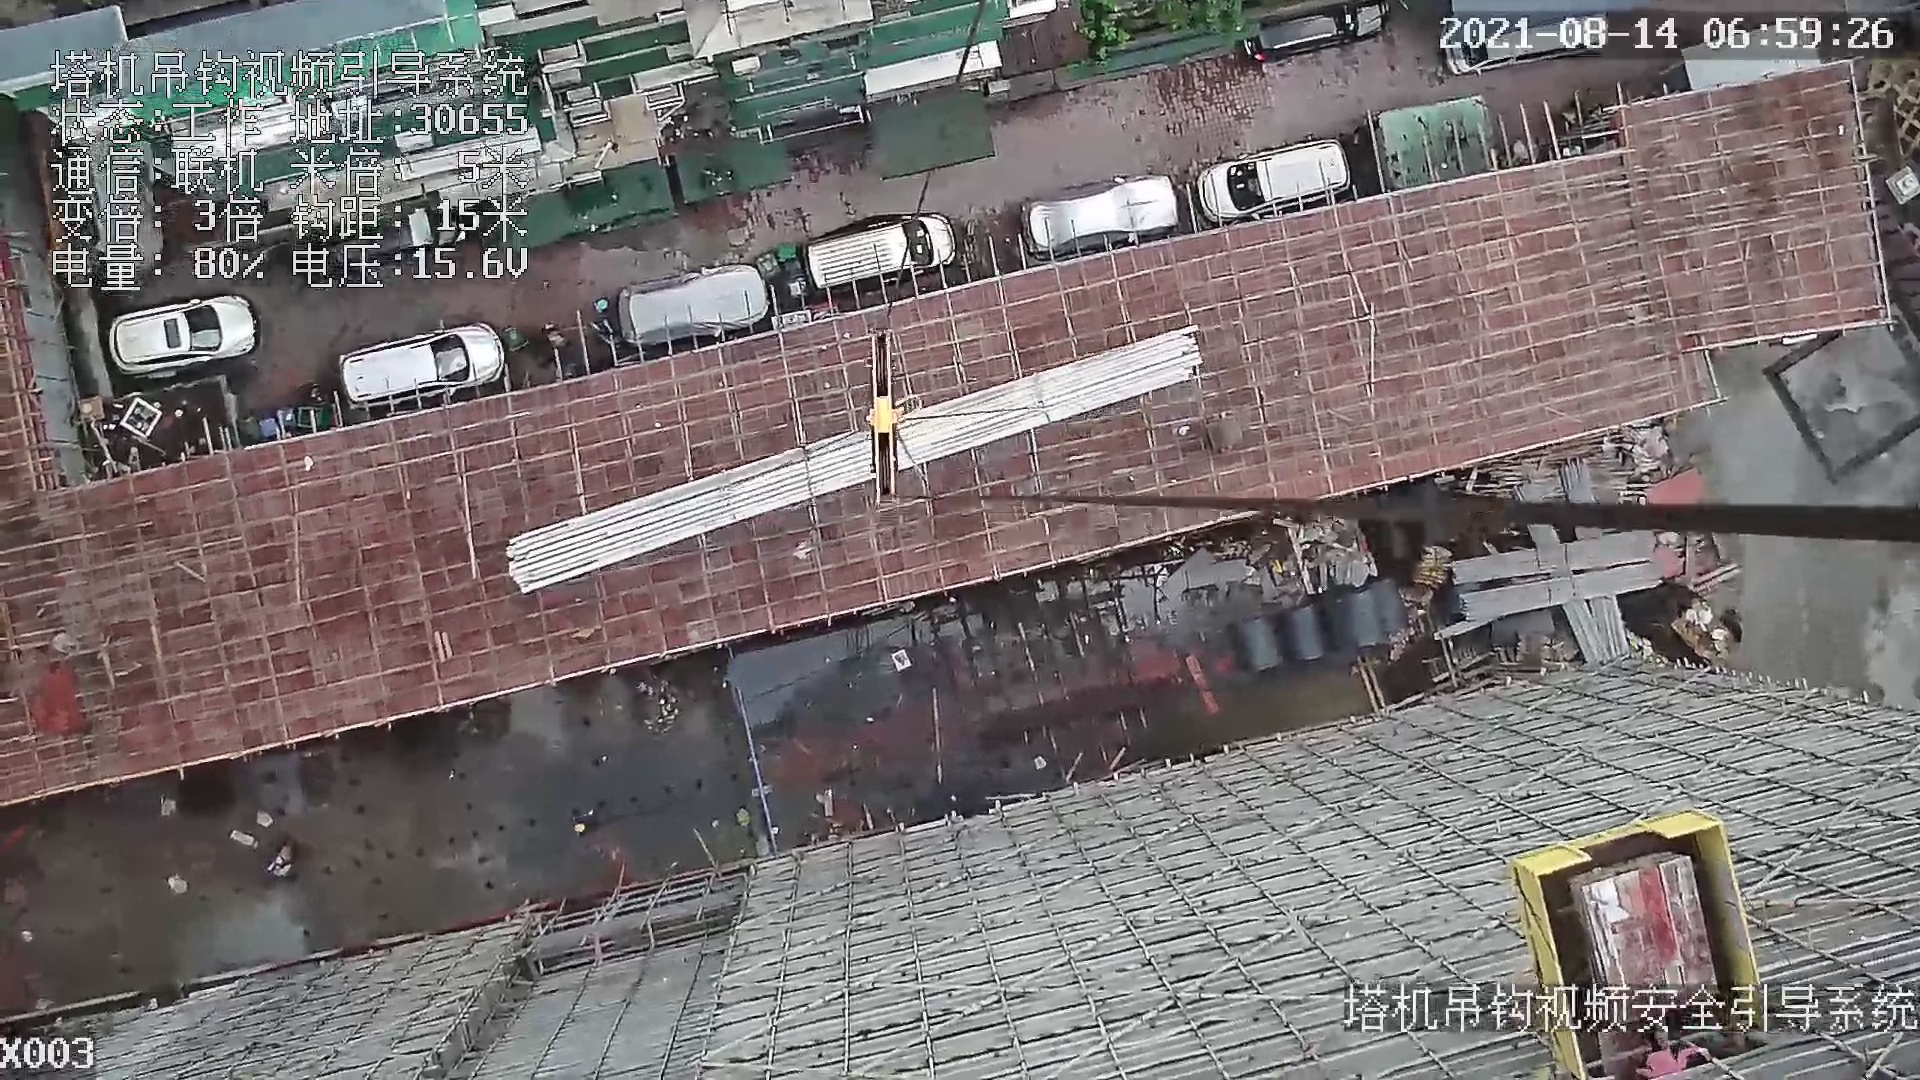board: (1571, 851, 1729, 992)
hook: (858, 326, 923, 506)
rebar: (505, 324, 1200, 591), (1460, 560, 1655, 622), (1452, 530, 1659, 585), (1527, 524, 1607, 663), (1573, 526, 1629, 657)
wood: (1412, 546, 1451, 591)
